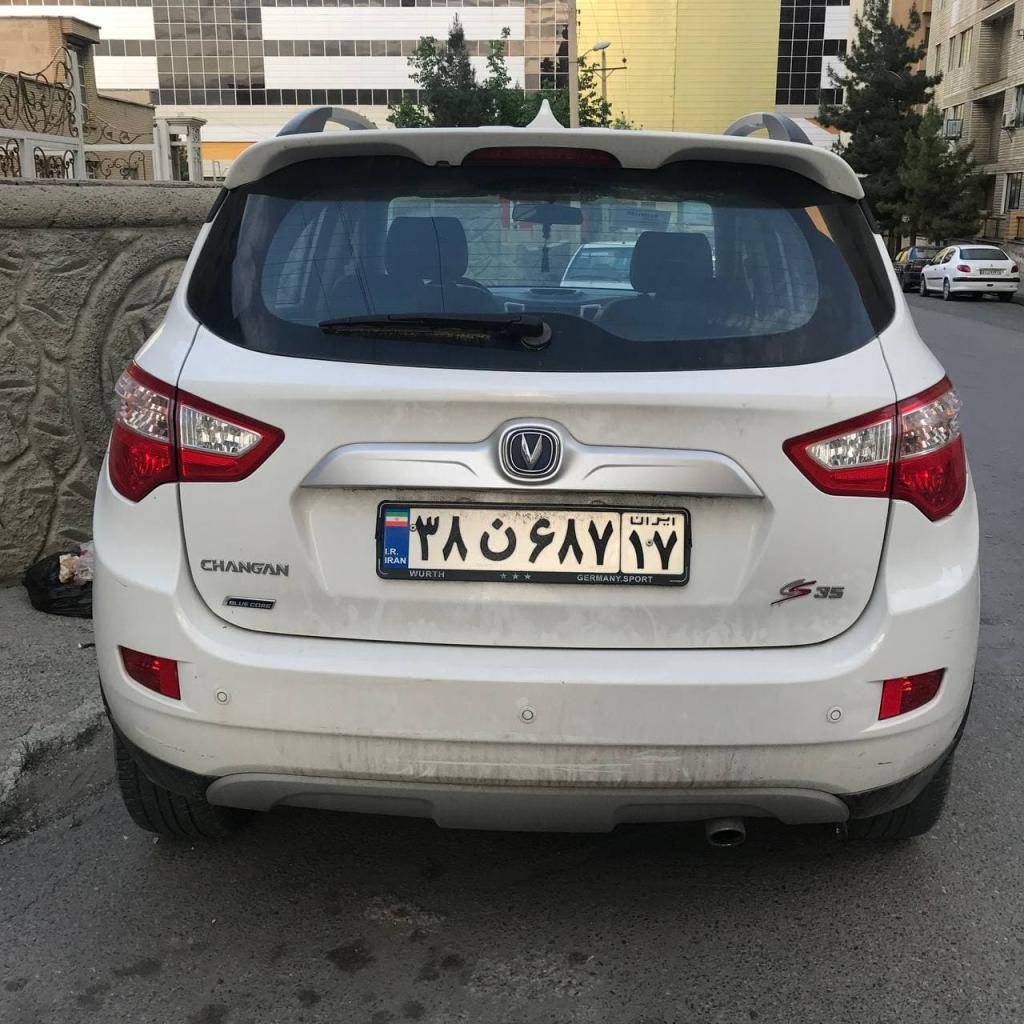Plates: (382, 508, 685, 574)
